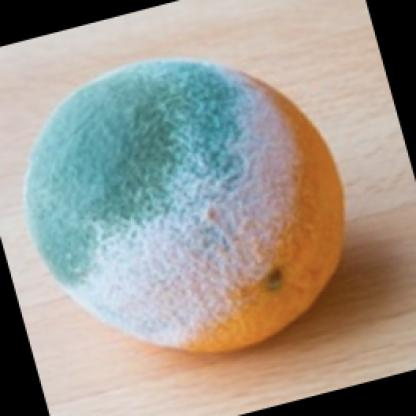rotten_orange: (20, 56, 349, 345)
